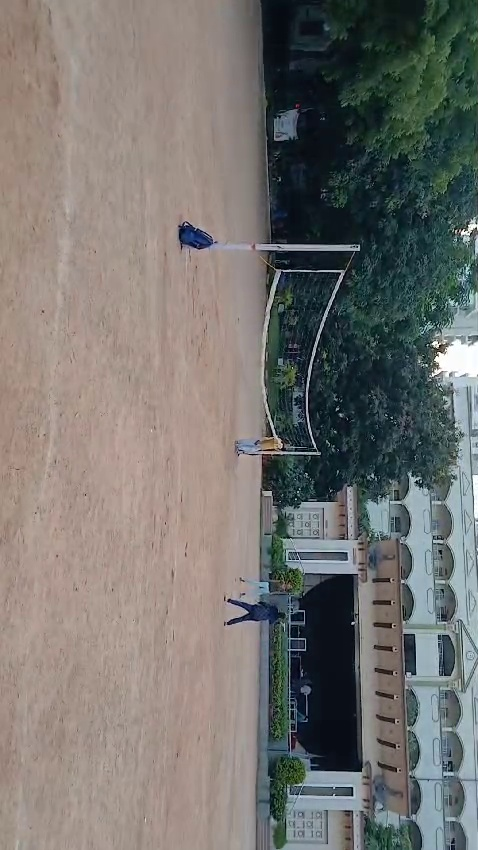bag: (175, 219, 218, 255)
